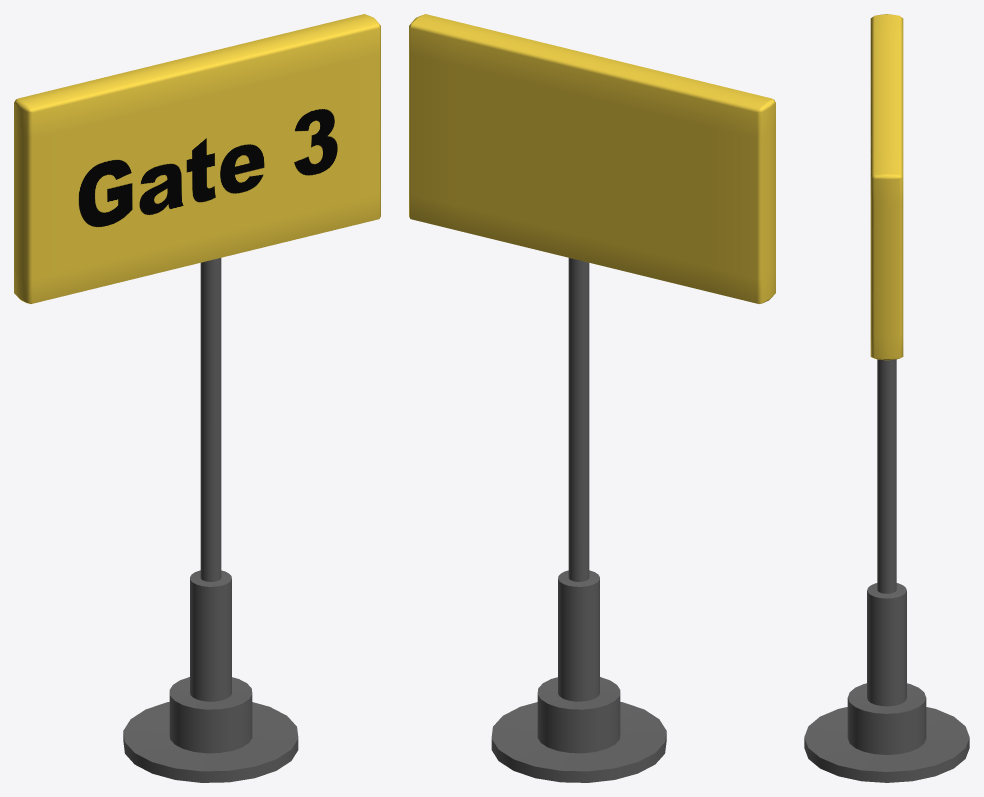
Rendered from Gate_3.fbx.
3 views of the same model, side by side, from view 1: azimuth 30°, elevation 25°; view 2: azimuth 150°, elevation 25°; view 3: azimuth 270°, elevation 25° (orthographic). The views are drawn at different scales.
Visible parts, largest first — view 1: pCube3, pCylinder3; view 2: pCube3, pCylinder3; view 3: pCylinder3, pCube3.
Part boxes in pixels (x1=…): pCube3: x1=14, y1=14, x2=380, y2=304; pCylinder3: x1=123, y1=258, x2=298, y2=782; pCube3: x1=409, y1=14, x2=775, y2=304; pCylinder3: x1=491, y1=258, x2=666, y2=782; pCylinder3: x1=804, y1=359, x2=969, y2=782; pCube3: x1=870, y1=14, x2=903, y2=360.
Size of the model in its own units: 4.05 by 7.5 by 1.73.
